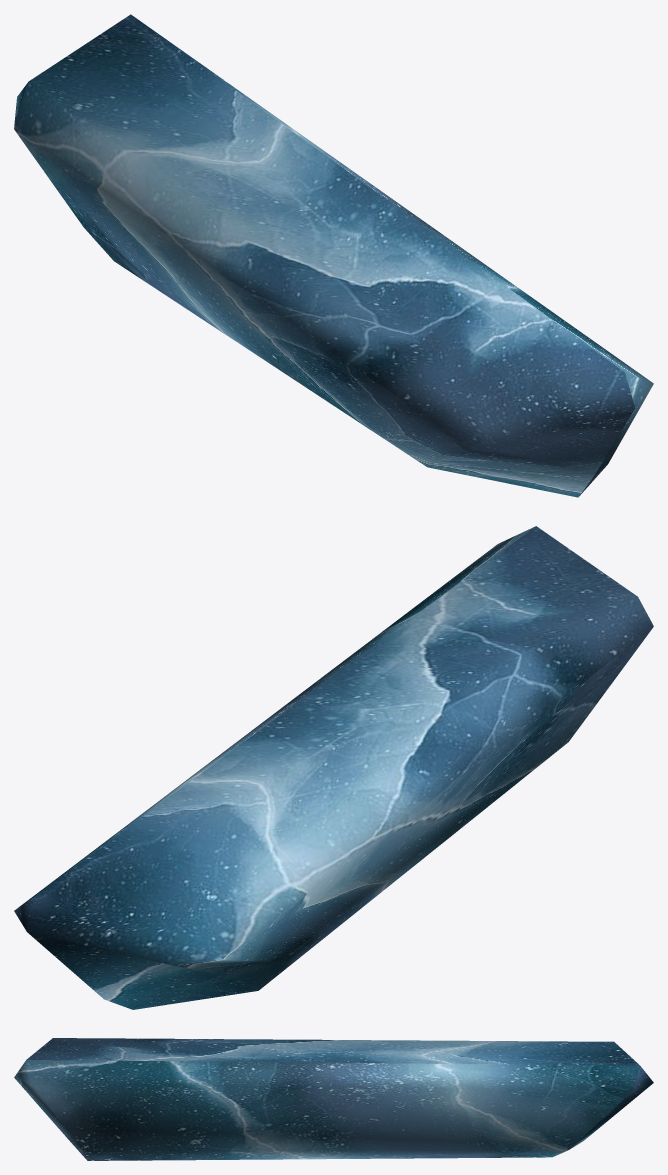
File: IcePlatform.fbx
3 renders of one model, top to bottom at view 1: azimuth 30°, elevation 25°; view 2: azimuth 150°, elevation 25°; view 3: azimuth 270°, elevation 25°, orthographic. The views are drawn at different scales.
Parts seen in each view (by area): view 1: Cube; view 2: Cube; view 3: Cube.
Part boxes in pixels (x1,y1,x2,y2): Cube: [14, 14, 653, 497]; Cube: [14, 526, 653, 1009]; Cube: [14, 1038, 653, 1160].
Bounding box in the file's own units: 36.01 × 31.36 × 175.
Materials: 1 (1 with a texture image).
